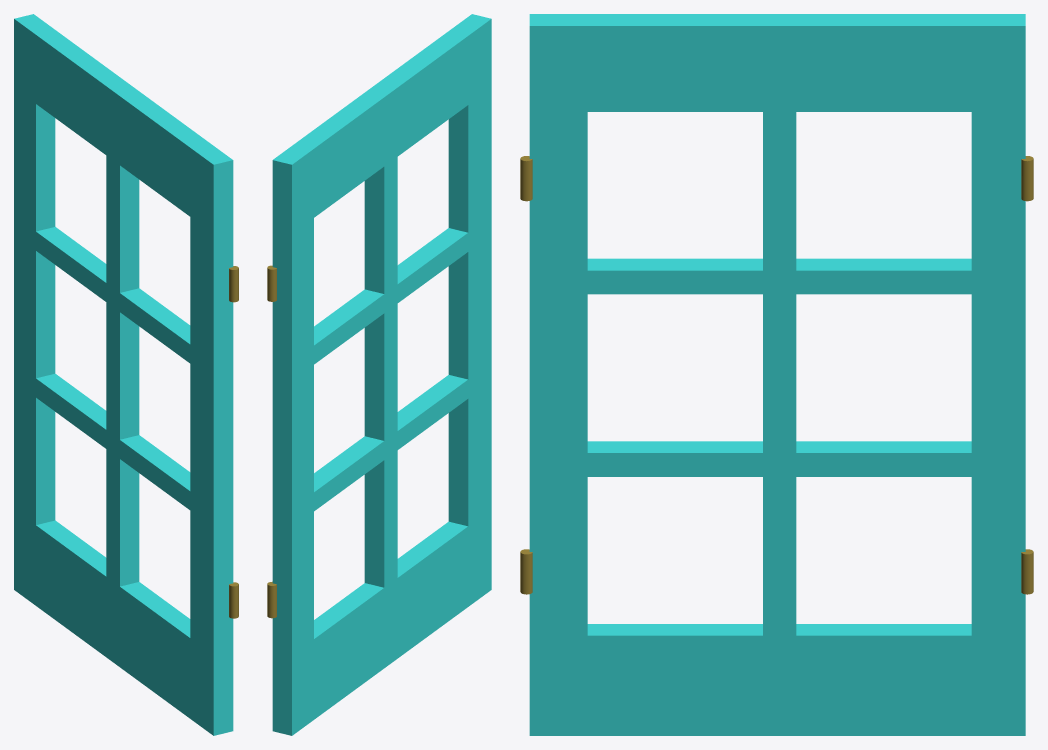
File: window.fbx
3 views of the same model, side by side, from view 1: azimuth 30°, elevation 25°; view 2: azimuth 150°, elevation 25°; view 3: azimuth 270°, elevation 25° (orthographic). The views are drawn at different scales.
Parts seen in each view (by area): view 1: Cube; view 2: Cube; view 3: Cube.
Part boxes in pixels (box(x1,y1,x2,y2)): Cube: box(14, 14, 238, 735); Cube: box(267, 14, 491, 735); Cube: box(520, 14, 1033, 735).
Bounding box in the file's own units: 8.74 × 204 × 133.
